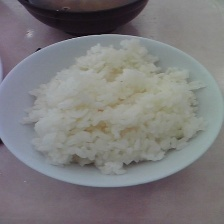rice: (19, 38, 206, 175)
